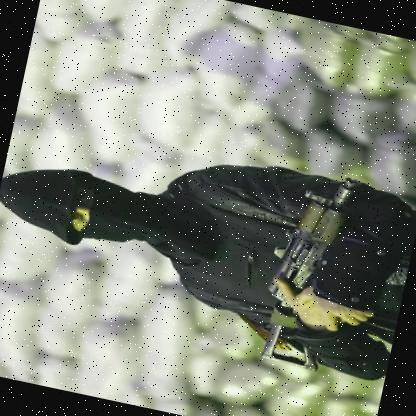rifle: (236, 160, 416, 378)
